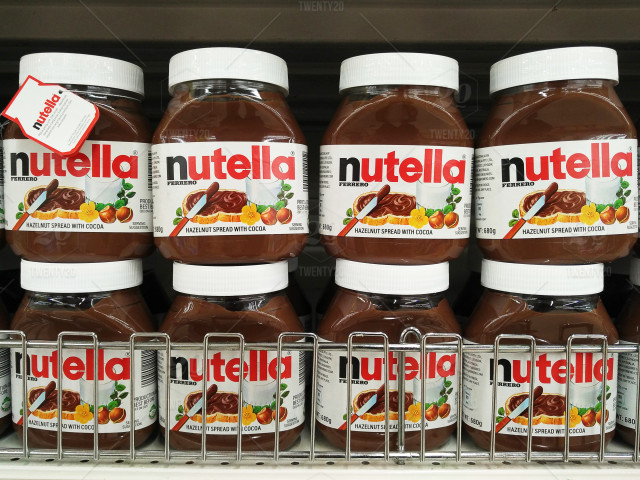nutella: (474, 43, 639, 265), (153, 45, 308, 267), (316, 51, 473, 265), (3, 50, 146, 262), (463, 265, 617, 449), (10, 258, 155, 449), (315, 263, 463, 449), (158, 262, 304, 450)
